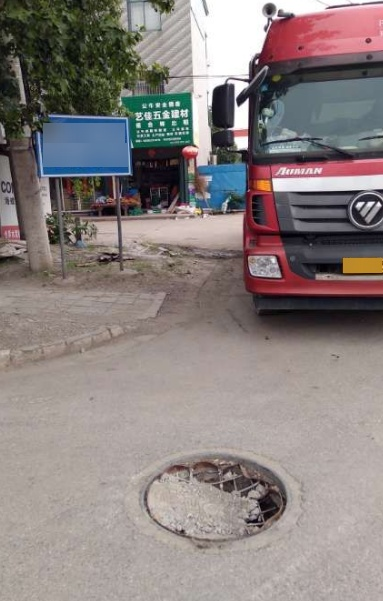broke: (124, 446, 300, 552)
